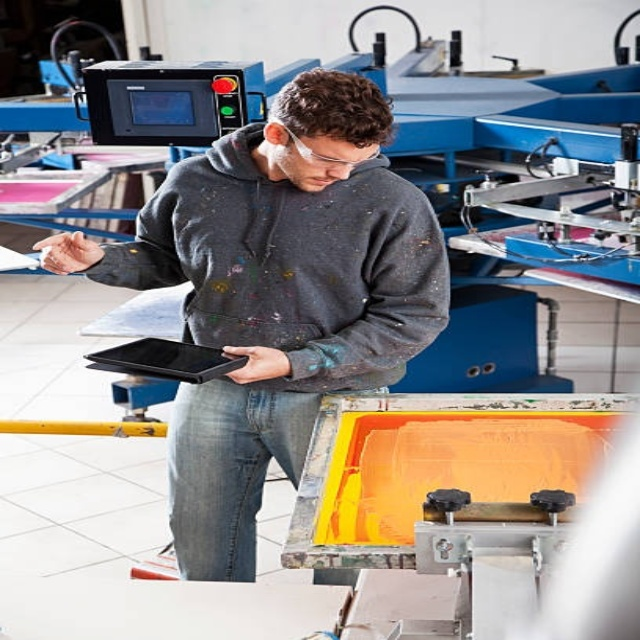Gafas: (284, 124, 380, 167)
Sin_guantes: (28, 229, 105, 277), (216, 341, 285, 387)
Sin_mascara: (296, 169, 342, 193)
